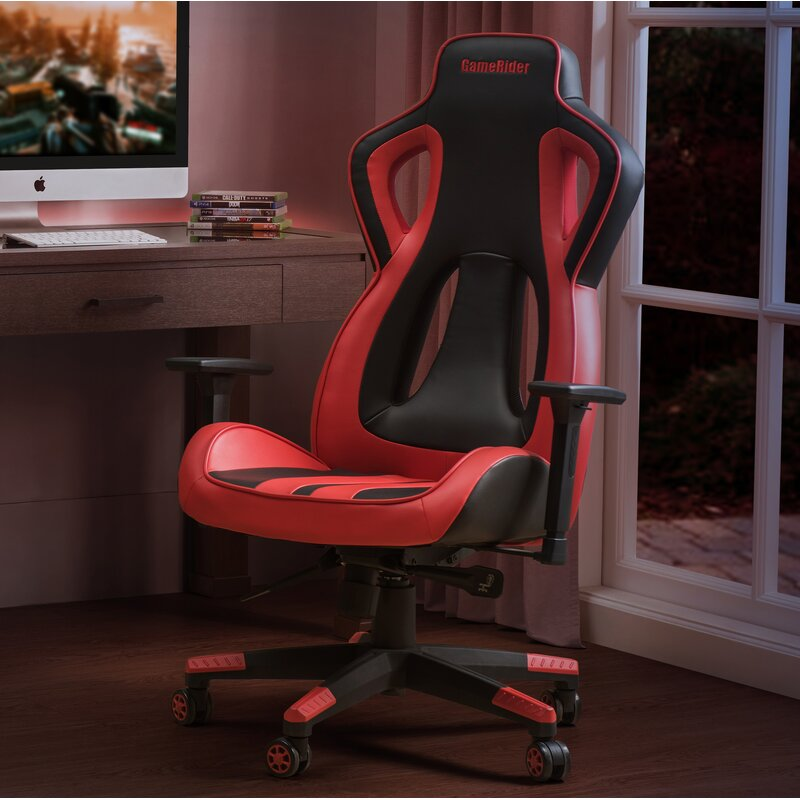chair: (153, 14, 666, 794)
